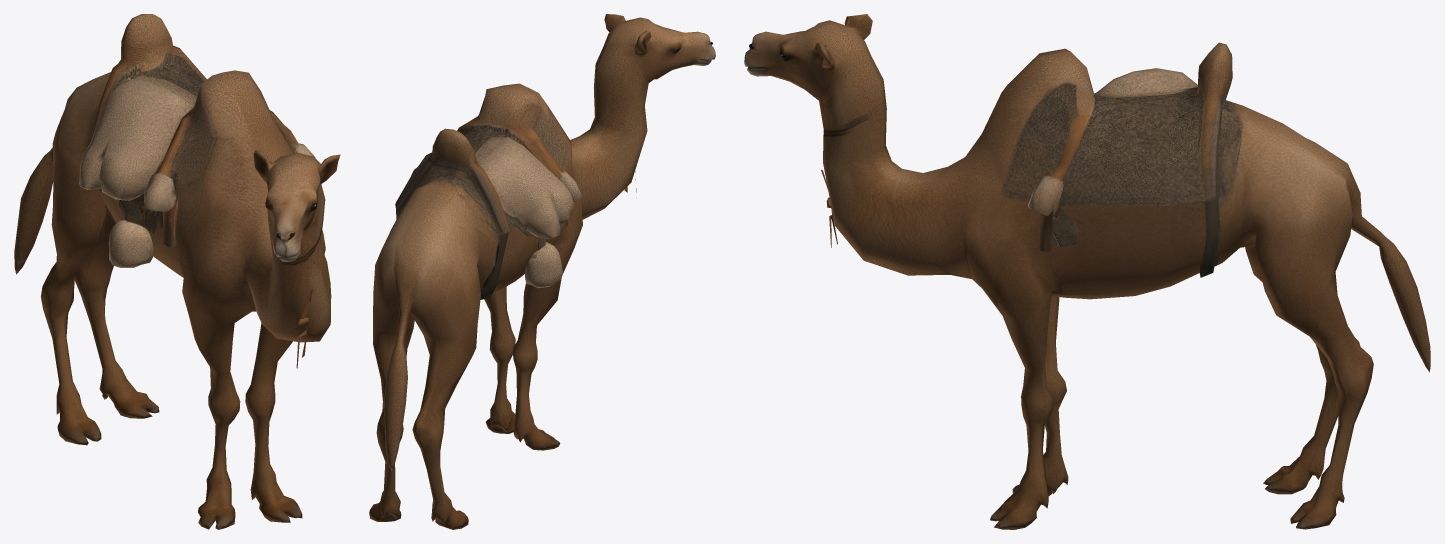
The model's file is deve.glb.
3 renders of one model, left to right at view 1: azimuth 30°, elevation 25°; view 2: azimuth 150°, elevation 25°; view 3: azimuth 270°, elevation 25°, orthographic. The views are drawn at different scales.
Size of the model in its own units: 0.3101 by 0.7051 by 0.9541.
Materials: 1 (1 with a texture image).
